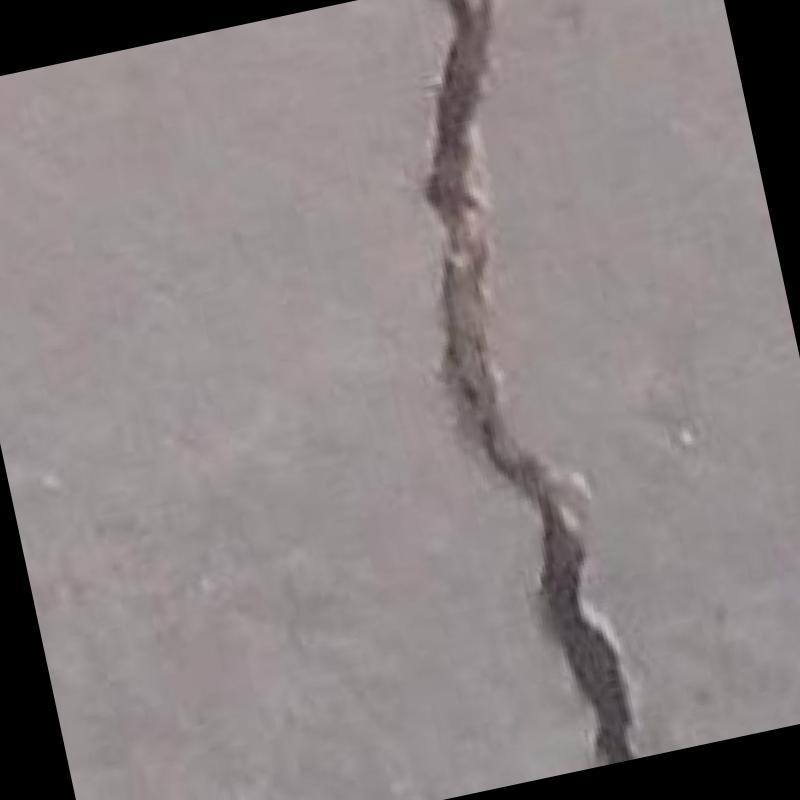pothole: (427, 0, 633, 766)
